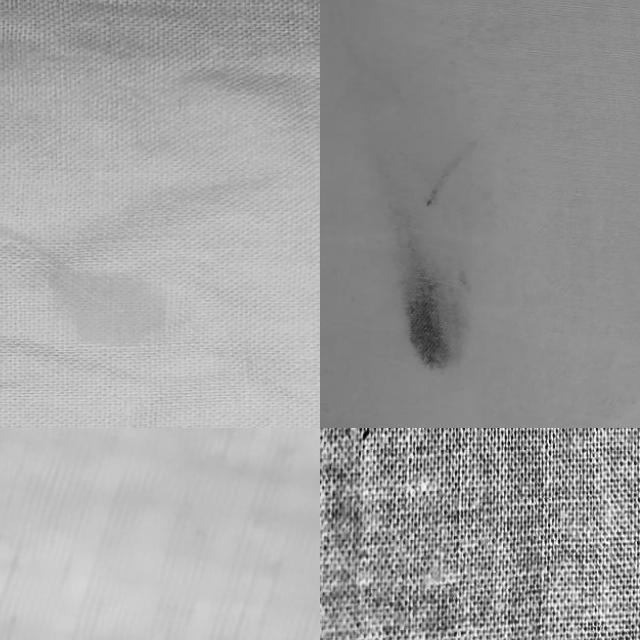Thread_other: (370, 84, 486, 398), (0, 198, 192, 373)
